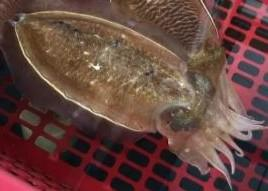Cephalopod: (0, 4, 267, 190)
